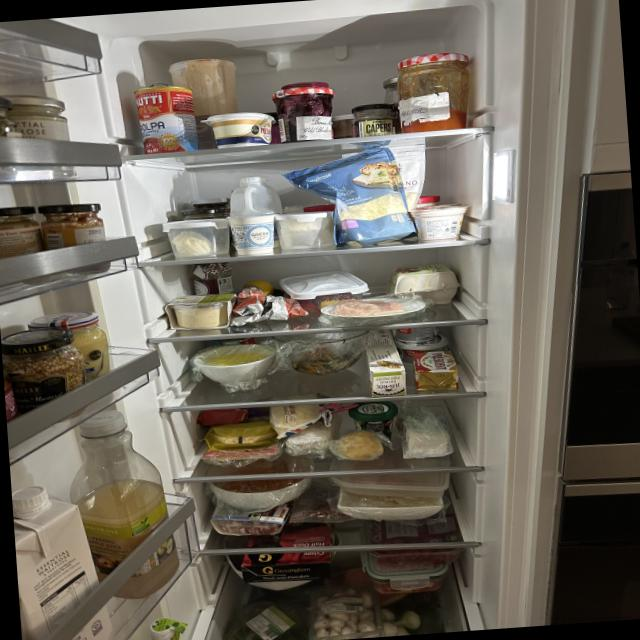Brocoli: (231, 598, 306, 640)
Carne cerdo: (218, 510, 280, 537)
Carne pollo: (327, 292, 408, 324)
Champiñones: (310, 586, 384, 640)
Huevos: (392, 262, 460, 304)
Leche: (227, 176, 281, 220)
Limón: (242, 276, 276, 295)
Mantequilla: (214, 112, 273, 149), (416, 352, 461, 389)
Queso: (328, 152, 418, 248), (208, 420, 276, 449), (273, 396, 321, 437)
Yogur: (232, 214, 279, 256)
